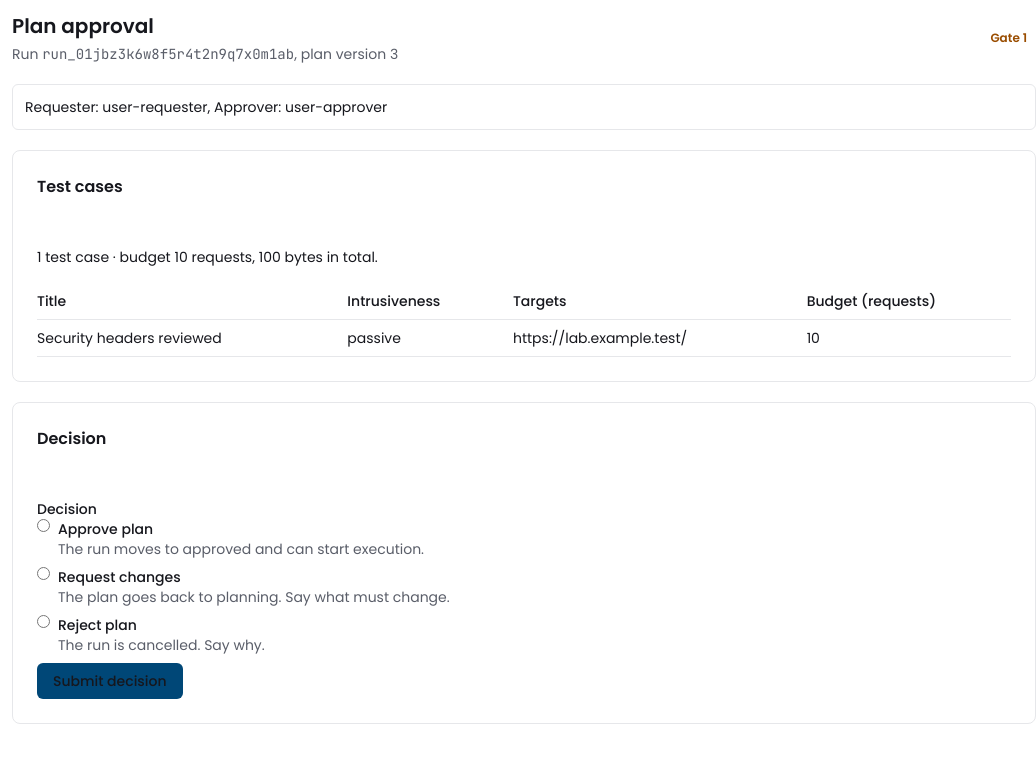
Gate1Review: the approver › after a lost response, the retry sends the same key so the decision is recorded once
Step 1. Click the radio button labelled "Approve plan" → x=44, y=526, box [37,519,50,532]
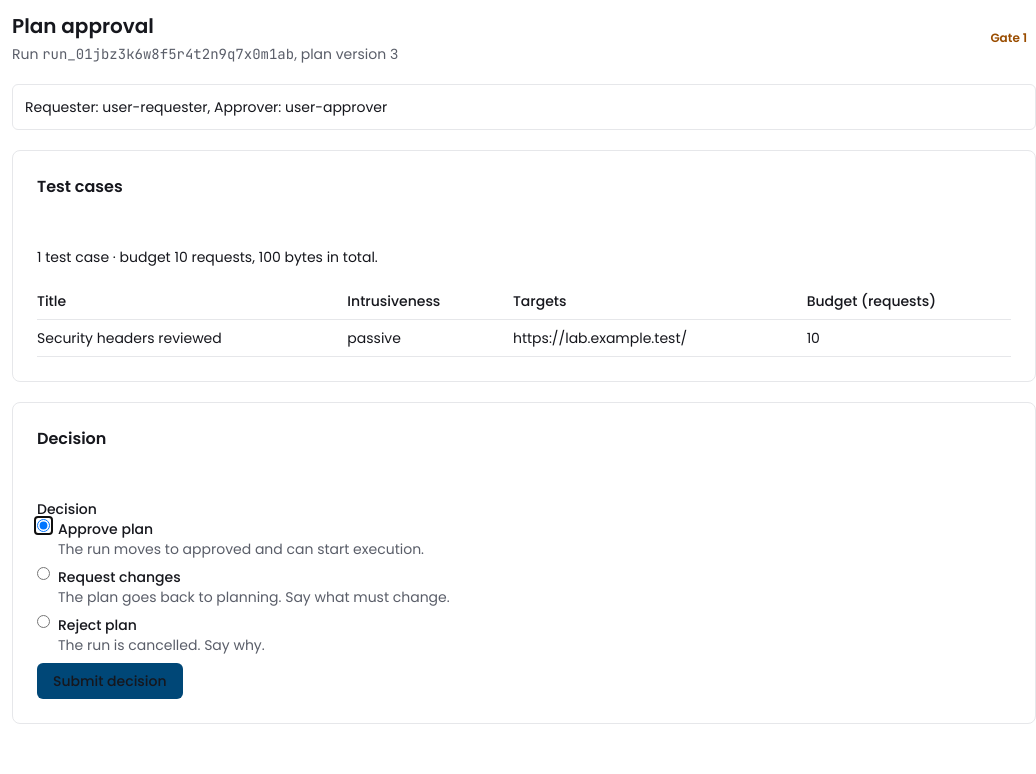
Step 2. Click the button "Submit decision" → x=110, y=681, box [37,663,182,699]
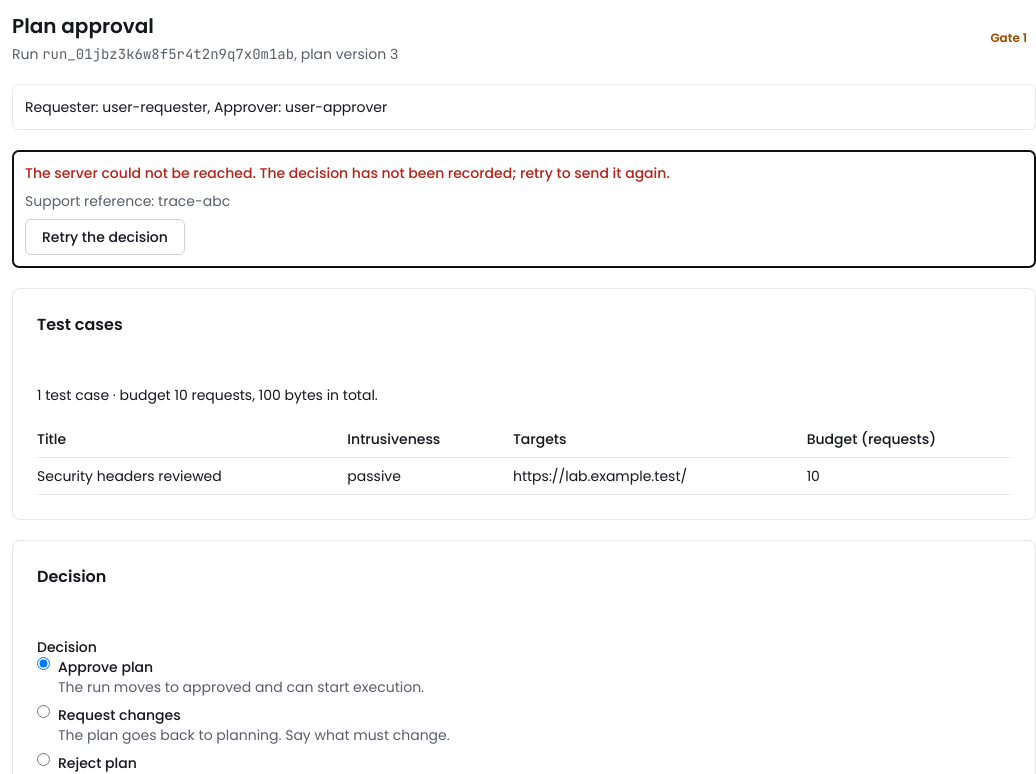
Step 3. Click the button "Retry the decision" → x=105, y=237, box [25,219,185,255]
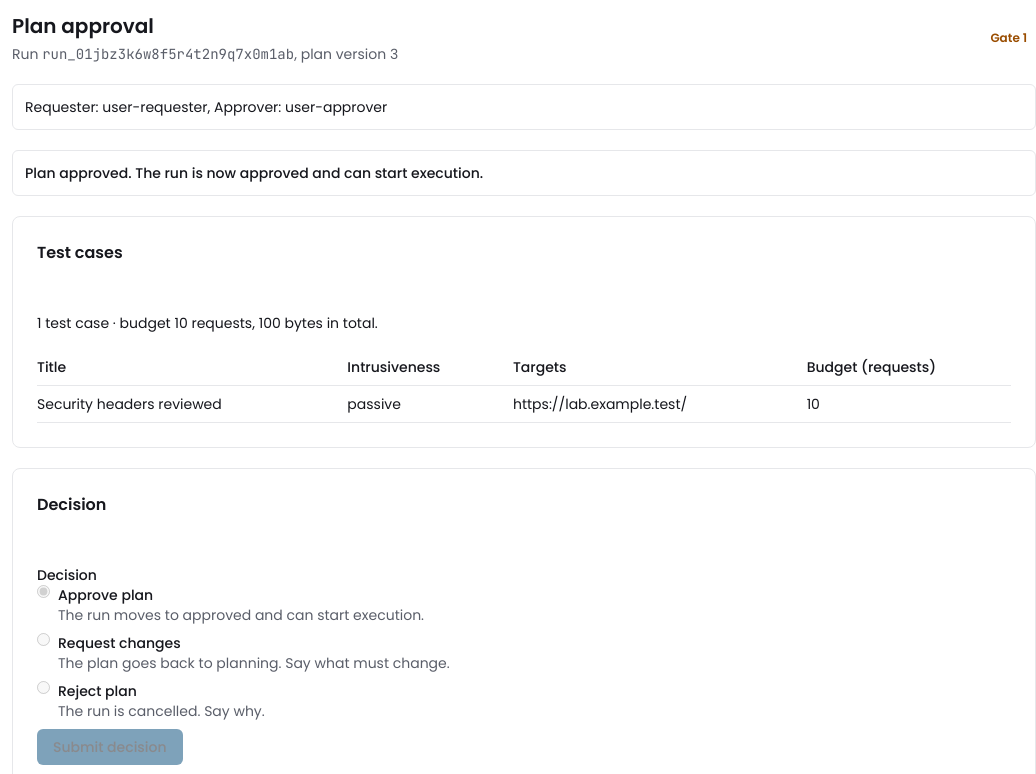
Now the message shows "Plan approved", box [25,163,483,183]
